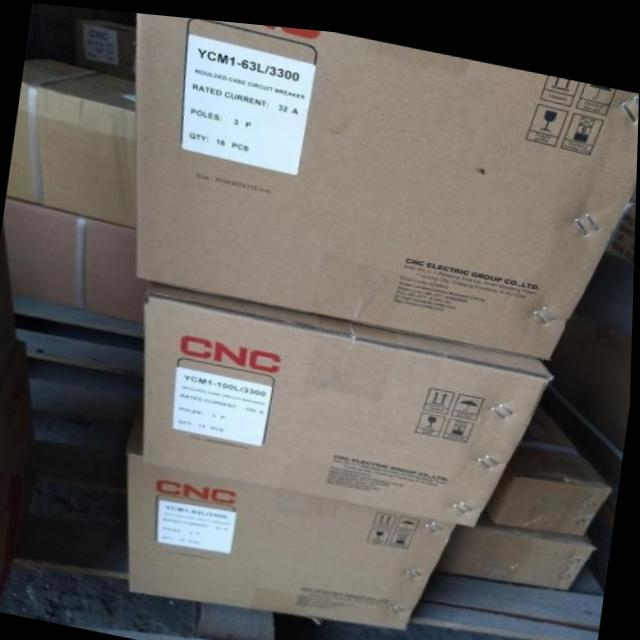box: (134, 10, 639, 350), (145, 275, 556, 518), (130, 400, 461, 620), (545, 185, 637, 477), (7, 58, 138, 227), (2, 199, 147, 321), (486, 393, 613, 523), (438, 499, 598, 579)
